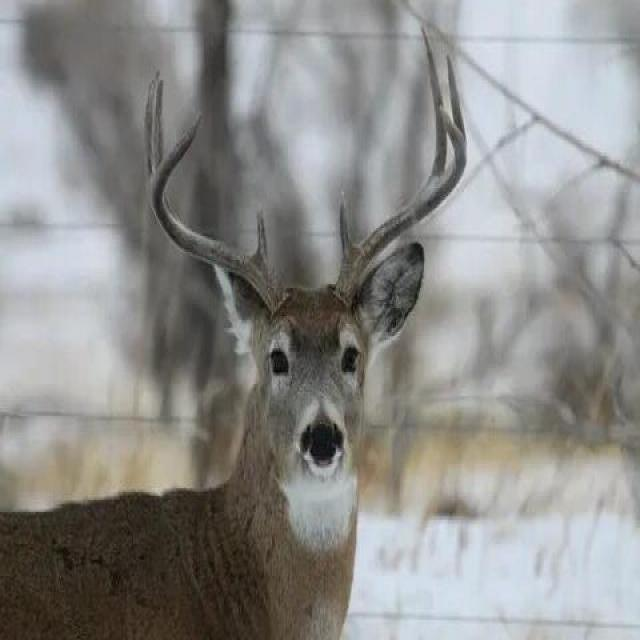deer: (140, 129, 474, 562)
